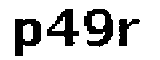4: (44, 7, 78, 52)
9: (84, 6, 114, 50)
p: (9, 17, 44, 59)
r: (116, 18, 142, 51)
